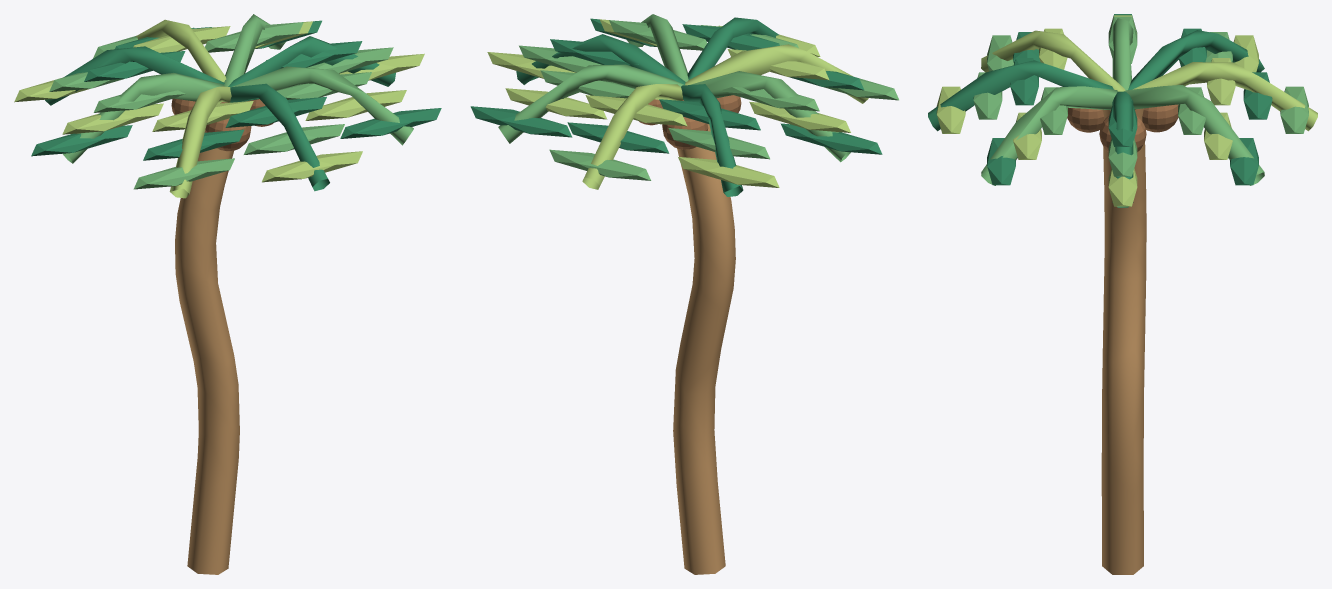
The model's file is palm-v2.glb.
3 views of the same model, side by side, from view 1: azimuth 30°, elevation 25°; view 2: azimuth 150°, elevation 25°; view 3: azimuth 270°, elevation 25° (orthographic).
Visible parts, largest first — view 1: TROPICAL PALM · Plant deep, TROPICAL PALM · Sun timber, TROPICAL PALM · Timber; view 2: TROPICAL PALM · Plant deep, TROPICAL PALM · Sun timber, TROPICAL PALM · Timber; view 3: TROPICAL PALM · Plant deep, TROPICAL PALM · Sun timber, TROPICAL PALM · Timber.
Part boxes in pixels (<box>): TROPICAL PALM · Plant deep: <box>14,14,441,198</box>; TROPICAL PALM · Sun timber: <box>175,101,247,574</box>; TROPICAL PALM · Timber: <box>171,98,273,151</box>; TROPICAL PALM · Plant deep: <box>470,14,898,196</box>; TROPICAL PALM · Sun timber: <box>673,100,735,574</box>; TROPICAL PALM · Timber: <box>639,95,741,149</box>; TROPICAL PALM · Plant deep: <box>928,14,1317,207</box>; TROPICAL PALM · Sun timber: <box>1101,108,1146,574</box>; TROPICAL PALM · Timber: <box>1067,104,1178,151</box>.
Bounding box in the file's own units: 3.53 × 4.33 × 2.97.
3 materials, 3 textured.
